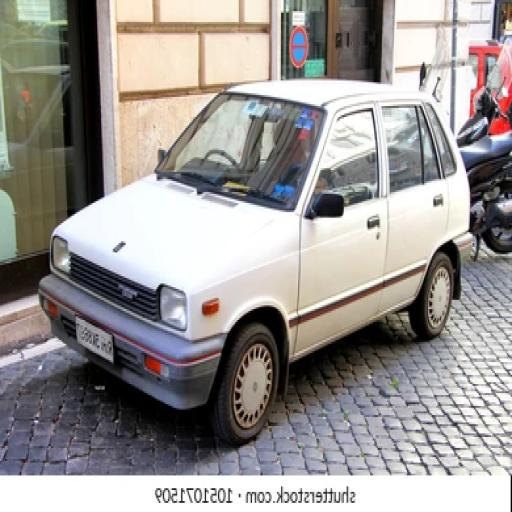License: (70, 312, 118, 363)
